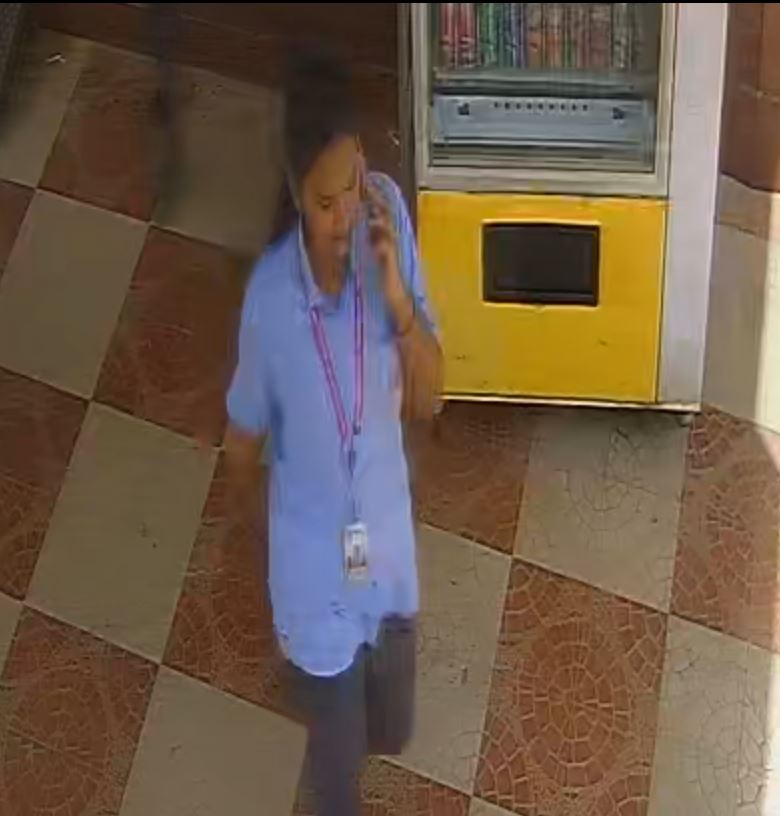not intruder: (252, 61, 437, 816)
